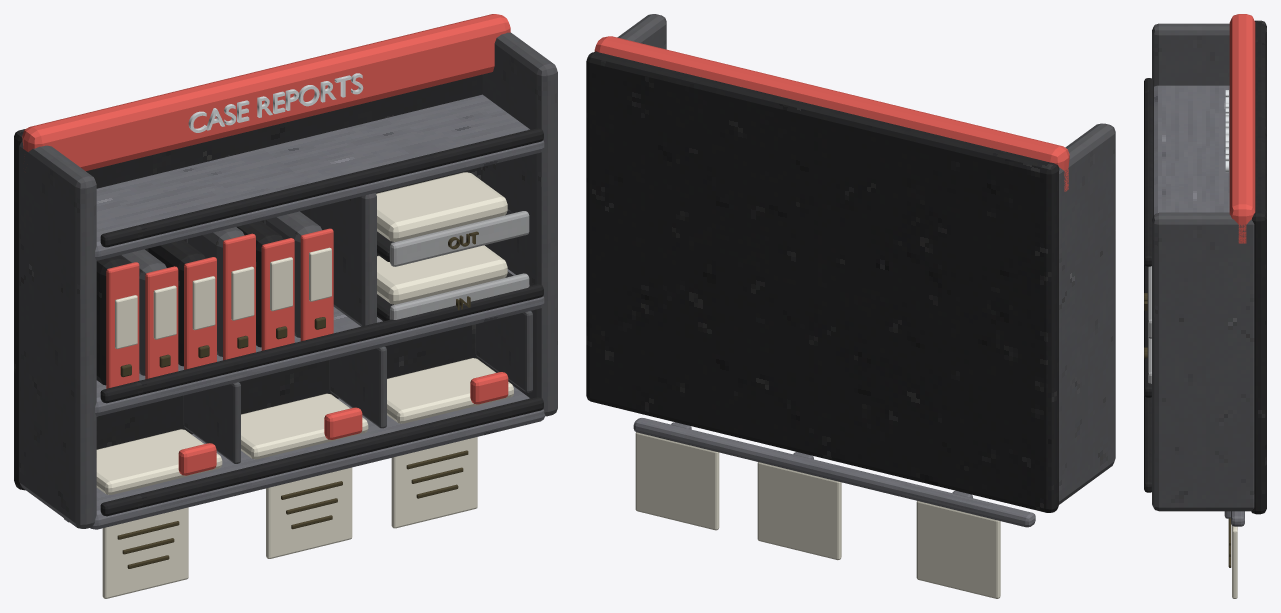
The model's file is decor_sec_report_shelf.glb.
The picture shows the model from 3 angles, left to right: view 1: azimuth 30°, elevation 25°; view 2: azimuth 150°, elevation 25°; view 3: azimuth 270°, elevation 25°; orthographic projection. The views are drawn at different scales.
Parts seen in each view (by area): view 1: DEC_SecReportShelf__Side_0, DEC_SecReportShelf__Shelf_2, DEC_SecReportShelf__Header, DEC_SecReportShelf__Back, DEC_SecReportShelf__Side_1, DEC_SecReportShelf__Shelf_0, DEC_SecReportShelf__Shelf_Lip_2, DEC_SecReportShelf__Shelf_Lip_0, DEC_SecReportShelf__Shelf_Lip_1, DEC_SecReportShelf__Letter_Stack_1, DEC_SecReportShelf__Shelf_1, DEC_SecReportShelf__Upper_Divider (+34 smaller); view 2: DEC_SecReportShelf__Back, DEC_SecReportShelf__Side_0, DEC_SecReportShelf__Header, DEC_SecReportShelf__Hanging_Report_1, DEC_SecReportShelf__Hanging_Report_2, DEC_SecReportShelf__Hanging_Report_0, DEC_SecReportShelf__File_Clip_Rail, DEC_SecReportShelf__Side_1; view 3: DEC_SecReportShelf__Side_1, DEC_SecReportShelf__Shelf_2, DEC_SecReportShelf__Back, DEC_SecReportShelf__Header, DEC_SecReportShelf__Side_0, DEC_SecReportShelf__Shelf_Lip_2, DEC_SecReportShelf__Shelf_Lip_0, DEC_SecReportShelf__Shelf_Lip_1, DEC_SecReportShelf__Hanging_Report_2, DEC_SecReportShelf__Header_Text, DEC_SecReportShelf__Tray_Face_1, DEC_SecReportShelf__File_Clip_Rail.
Part boxes in pixels (box(x1,y1,x2,y2)): DEC_SecReportShelf__Side_0: box(19, 141, 96, 528); DEC_SecReportShelf__Shelf_2: box(95, 94, 544, 260); DEC_SecReportShelf__Header: box(22, 14, 510, 171); DEC_SecReportShelf__Back: box(14, 74, 482, 490); DEC_SecReportShelf__Side_1: box(482, 32, 557, 416); DEC_SecReportShelf__Shelf_0: box(90, 386, 545, 529); DEC_SecReportShelf__Shelf_Lip_2: box(100, 128, 543, 247); DEC_SecReportShelf__Shelf_Lip_0: box(100, 397, 543, 516); DEC_SecReportShelf__Shelf_Lip_1: box(100, 284, 543, 403); DEC_SecReportShelf__Letter_Stack_1: box(376, 172, 507, 241); DEC_SecReportShelf__Shelf_1: box(95, 269, 544, 416); DEC_SecReportShelf__Upper_Divider: box(310, 193, 376, 326); DEC_SecReportShelf__Back: box(586, 51, 1059, 512); DEC_SecReportShelf__Side_0: box(1059, 123, 1115, 504); DEC_SecReportShelf__Header: box(594, 36, 1069, 191); DEC_SecReportShelf__Hanging_Report_1: box(757, 462, 841, 560); DEC_SecReportShelf__Hanging_Report_2: box(635, 432, 719, 530); DEC_SecReportShelf__Hanging_Report_0: box(916, 501, 1000, 598); DEC_SecReportShelf__File_Clip_Rail: box(633, 418, 1035, 527); DEC_SecReportShelf__Side_1: box(617, 14, 666, 49); DEC_SecReportShelf__Side_1: box(1152, 212, 1254, 511); DEC_SecReportShelf__Shelf_2: box(1154, 85, 1229, 214); DEC_SecReportShelf__Back: box(1251, 20, 1266, 514); DEC_SecReportShelf__Header: box(1229, 14, 1255, 243); DEC_SecReportShelf__Side_0: box(1152, 23, 1229, 86); DEC_SecReportShelf__Shelf_Lip_2: box(1144, 78, 1153, 266); DEC_SecReportShelf__Shelf_Lip_0: box(1144, 395, 1151, 492); DEC_SecReportShelf__Shelf_Lip_1: box(1144, 264, 1151, 397); DEC_SecReportShelf__Hanging_Report_2: box(1232, 526, 1237, 598); DEC_SecReportShelf__Header_Text: box(1225, 90, 1228, 172); DEC_SecReportShelf__Tray_Face_1: box(1148, 266, 1151, 338); DEC_SecReportShelf__File_Clip_Rail: box(1231, 511, 1244, 526).
Size of the model in its own units: 1.65 by 1.58 by 0.4335.
8 materials, 4 textured.
